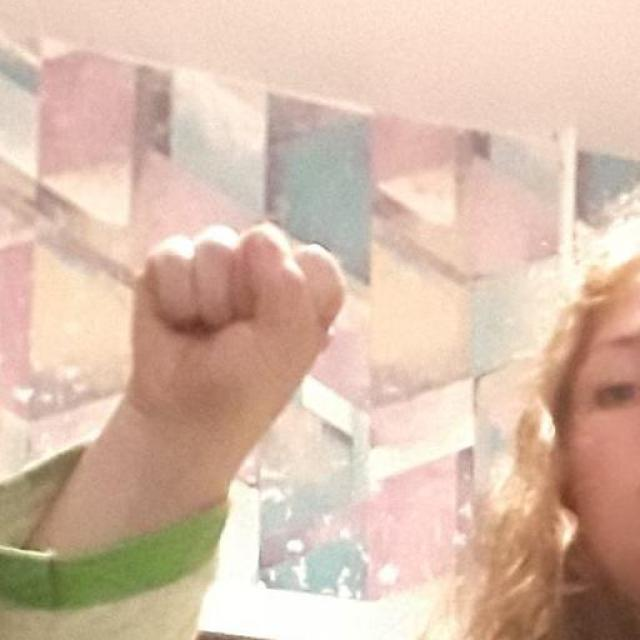hand: (124, 218, 348, 488)
